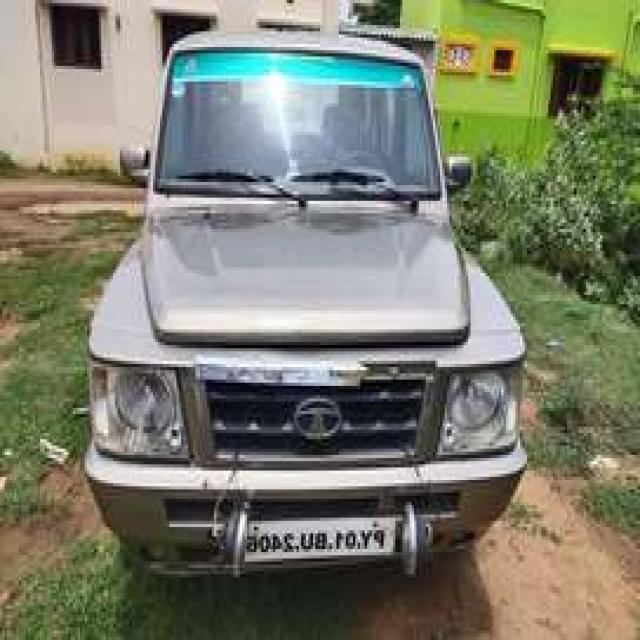license_plate: (235, 507, 400, 577)
